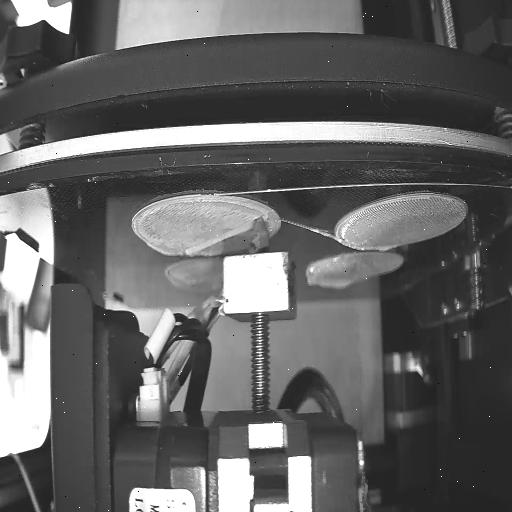over_extrusion: (184, 220, 253, 258), (304, 262, 354, 294), (146, 240, 178, 258), (163, 262, 179, 278), (374, 242, 396, 252)
